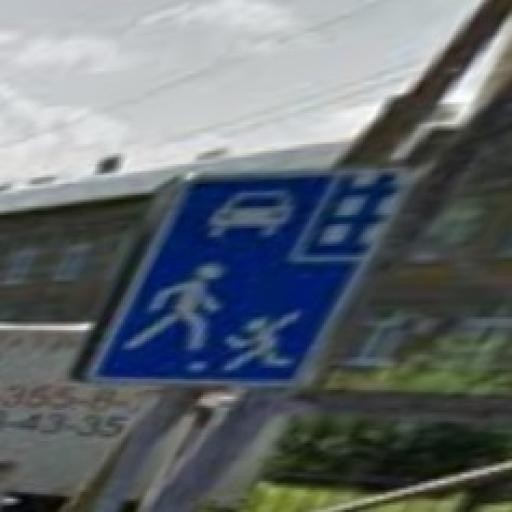traffic_sign: (85, 161, 416, 391)
